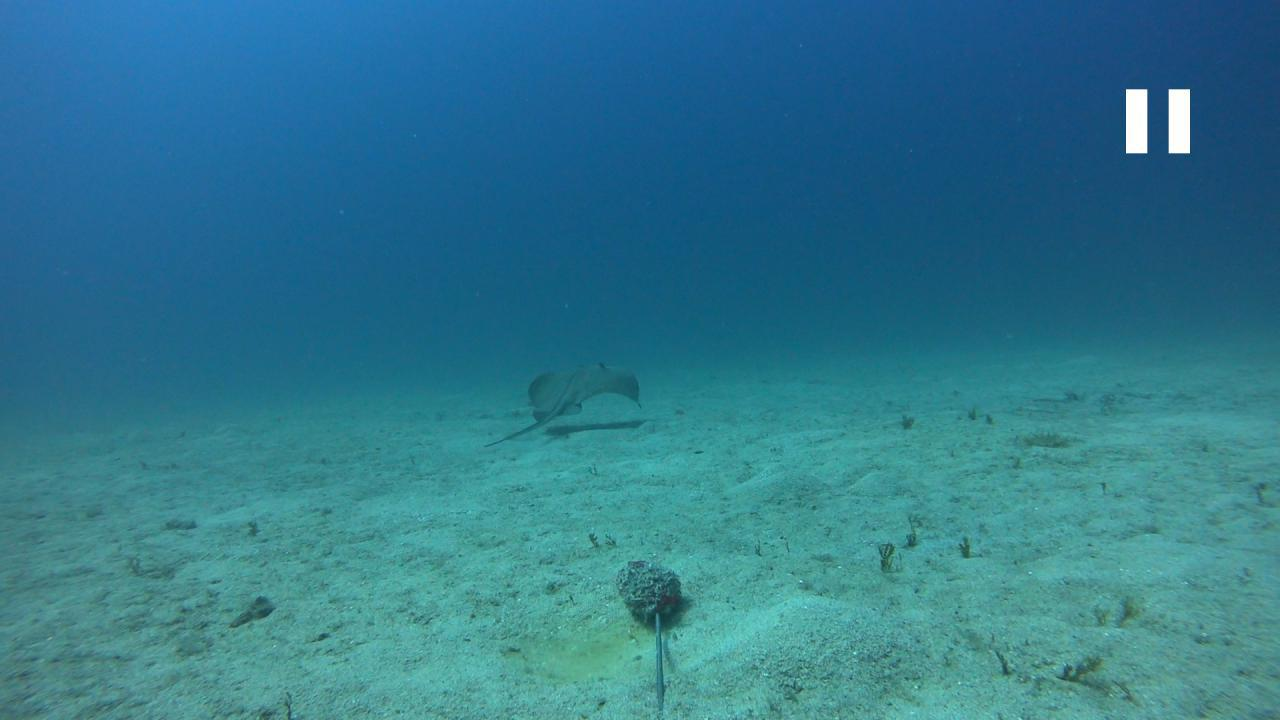dasyatis: (479, 360, 644, 446)
